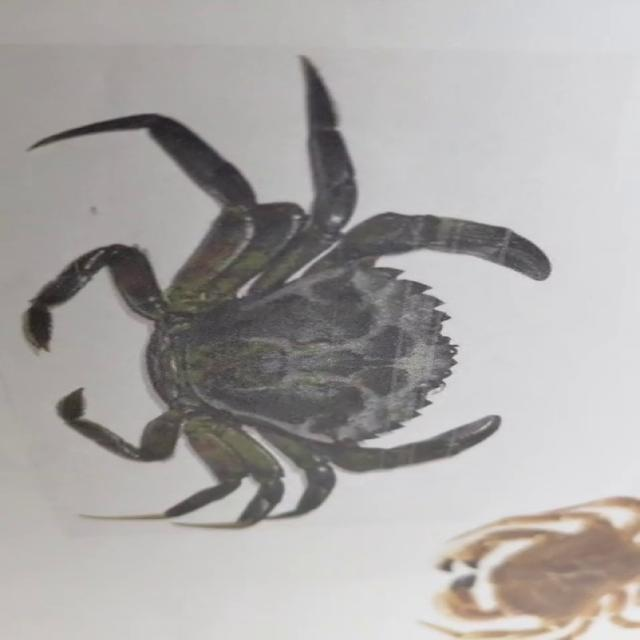egc: (23, 56, 549, 529)
